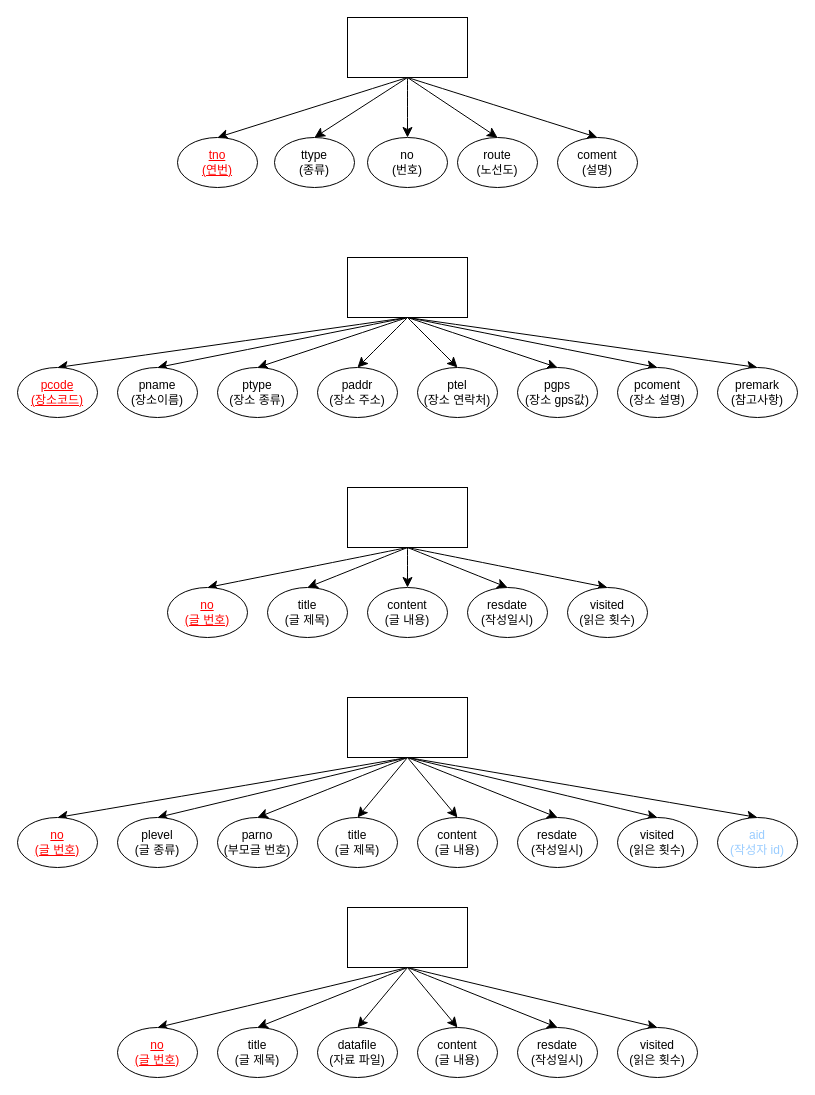
Some shapes in this 815 by 1095 pixel diagram are drawn without their labels. Each missing label, with the centre of its shape:
"data (자료실)" belongs at point (407, 937).
"notice (공지사항)" belongs at point (407, 517).
"qna (묻고 답하기)" belongs at point (407, 727).
"traffic (교통편)" belongs at point (407, 47).
"안내사항 (guide)" belongs at point (407, 287).
